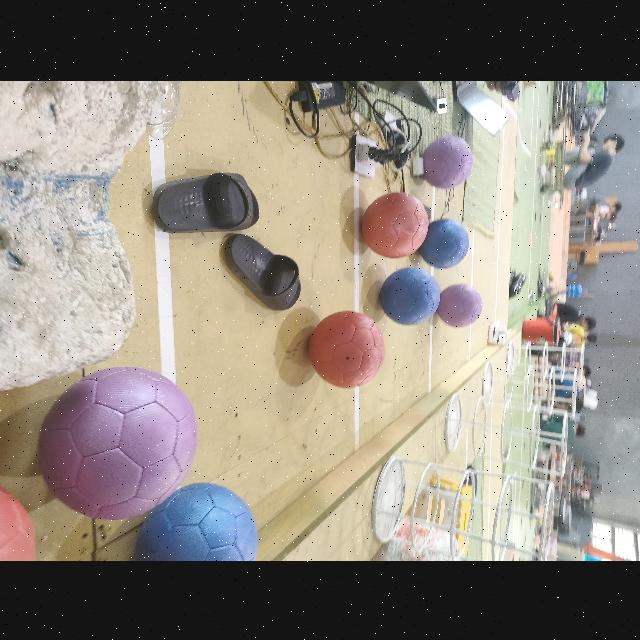B: (135, 482, 257, 560), (380, 266, 440, 324), (419, 218, 469, 268)
P: (39, 366, 198, 518), (423, 134, 473, 188), (439, 282, 483, 326)
R: (309, 310, 385, 388), (363, 192, 429, 258), (1, 474, 36, 560)
